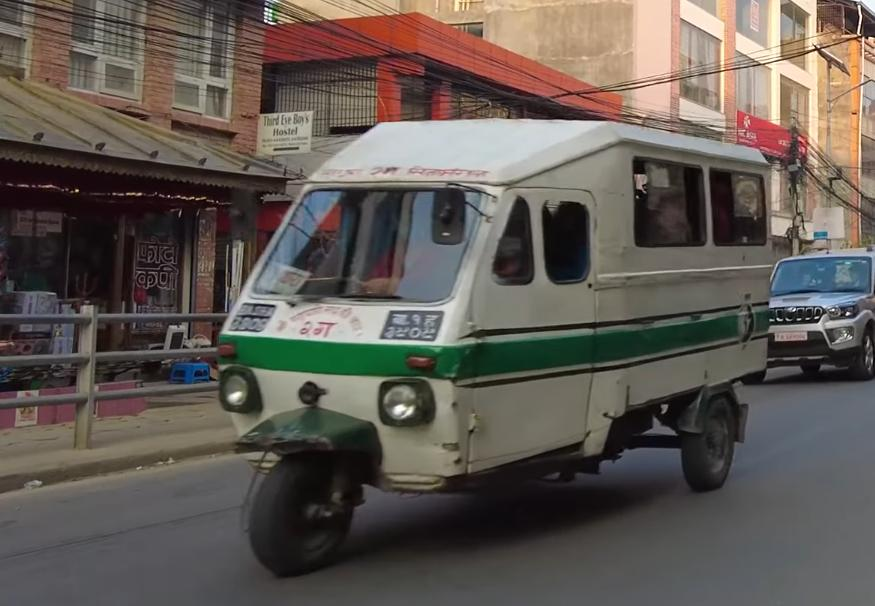SUV: (762, 240, 875, 384)
tempo: (213, 109, 777, 584)
